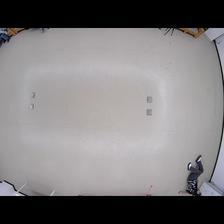fall: (182, 154, 205, 196)
